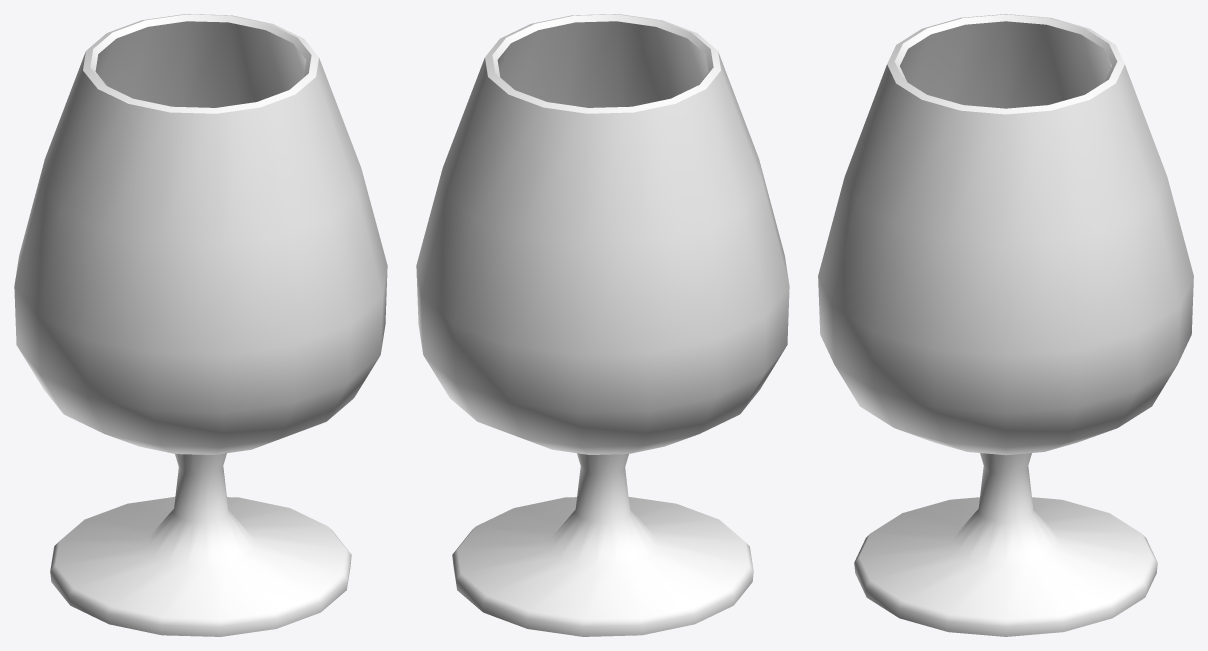
The model's file is Glasses01_3.FBX.
3 views of the same model, side by side, from view 1: azimuth 30°, elevation 25°; view 2: azimuth 150°, elevation 25°; view 3: azimuth 270°, elevation 25° (orthographic).
Visible parts, largest first — view 1: Glasses01_3; view 2: Glasses01_3; view 3: Glasses01_3.
Boxes of the visible parts, x1,y1,x2,y2 form: Glasses01_3: (14,14,387,636); Glasses01_3: (416,14,789,636); Glasses01_3: (818,14,1193,636).
Size of the model in its own units: 11.07 by 16.63 by 11.07.
